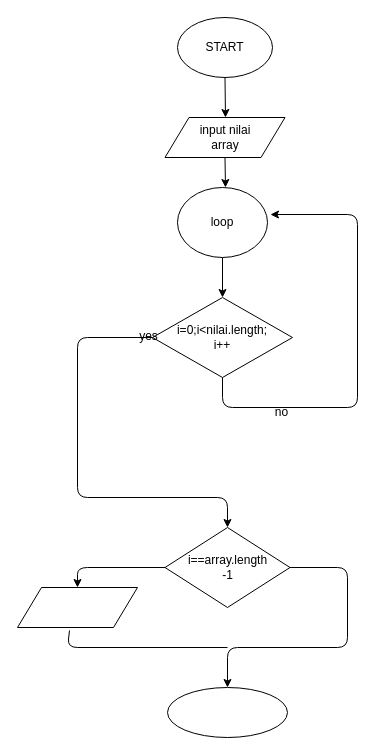
This 383x755 diagram has some shape labels left out. Each missing label, with the centre of its shape:
"END" belongs at pixel 227 712.
"selisih=array[i]- array[i+1]" belongs at pixel 77 607.
